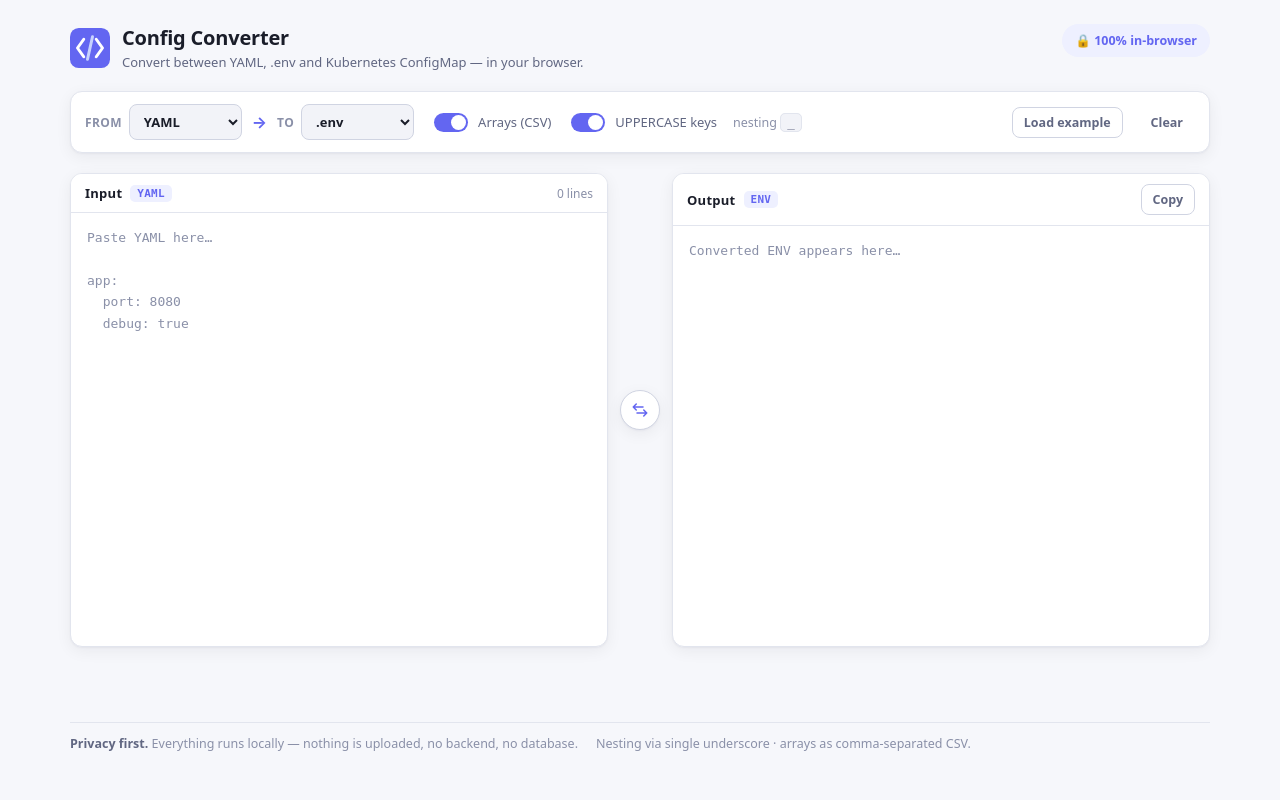
Test: App › parses a ConfigMap back into nested YAML
Select "ConfigMap" in the dropdown named "From format" at (185,122), box [129,104,242,140]
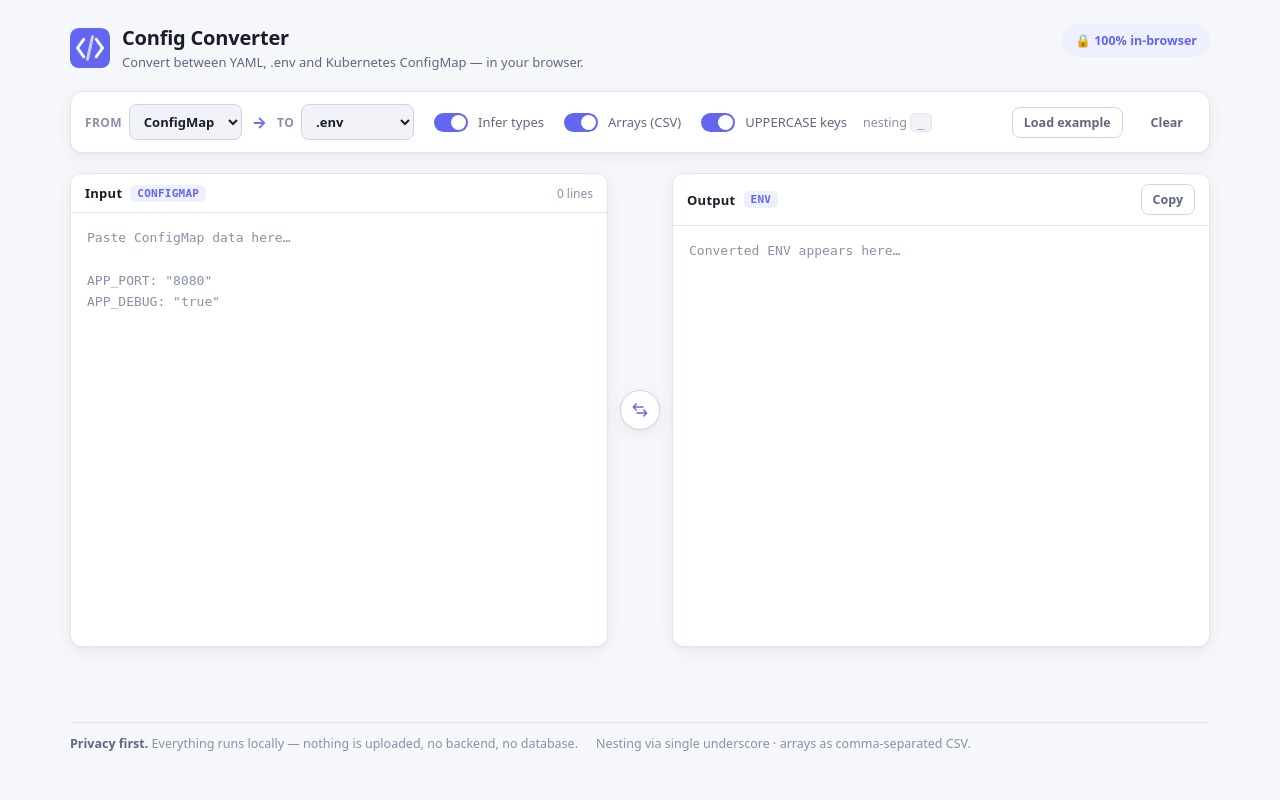
Select "YAML" in the dropdown named "To format" at (358,122), box [301,104,414,140]
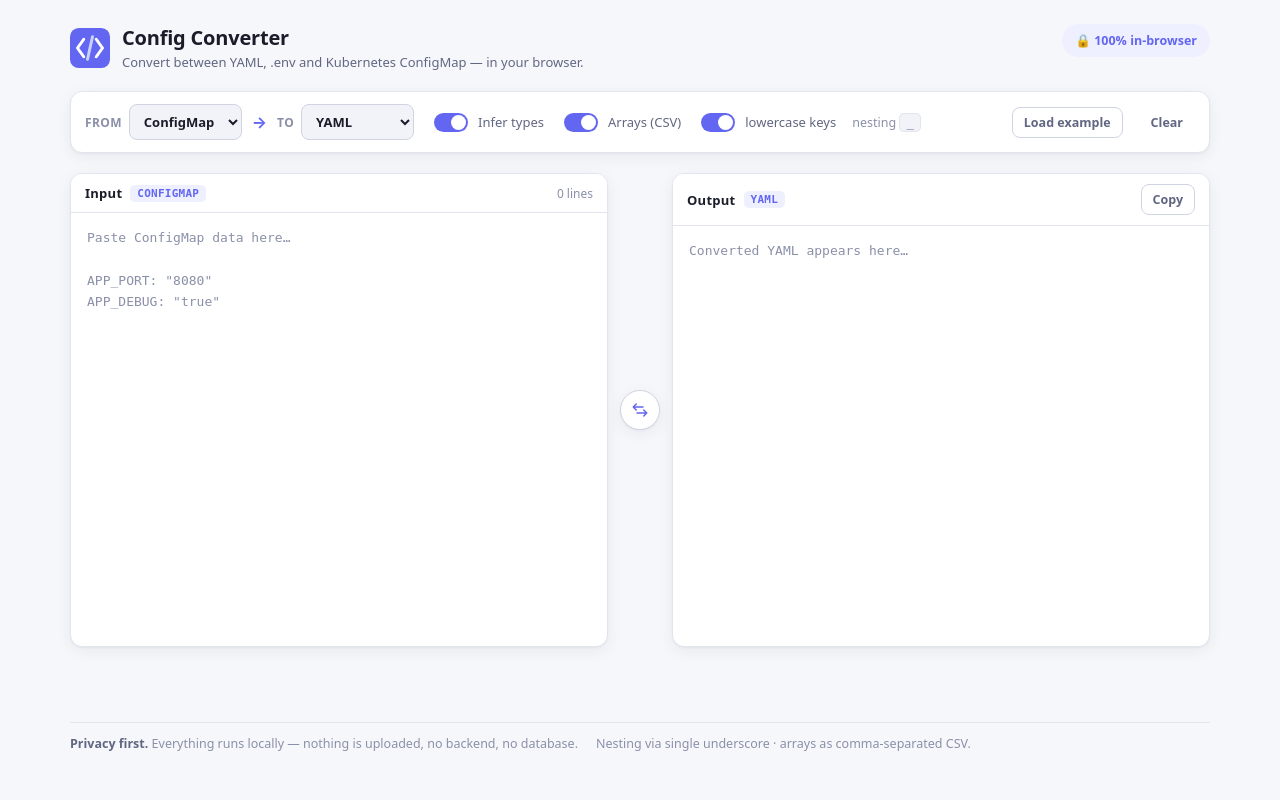
Replace the text in the text box named "Input" with "SERVER_HOST: \"0.0.0.0\" SERVER_PORT: \"3001\"" at (339,430), box [71,213,607,646]
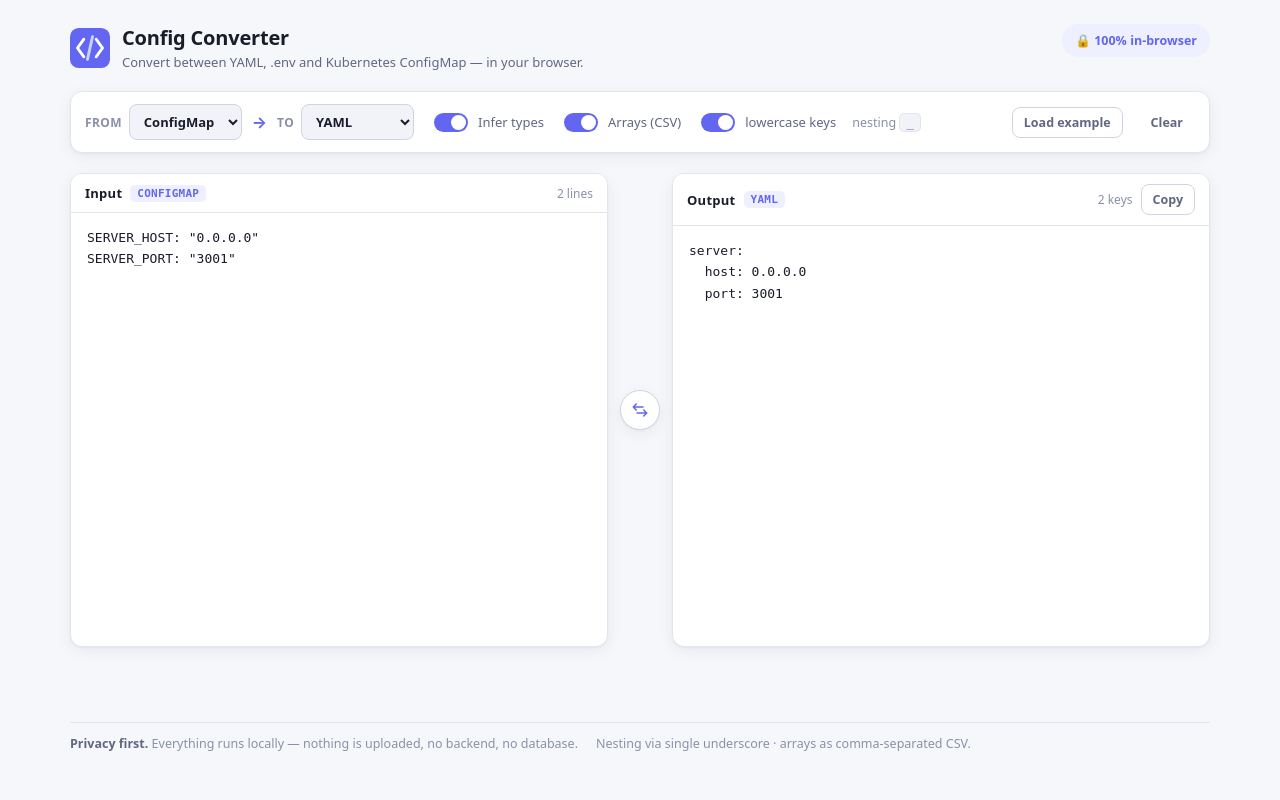
Now the text named "Output" shows "server:", box [689,243,806,301]
Now the text named "Output" shows "host: 0.0.0.0", box [689,243,806,301]
Now the text named "Output" shows "port: 3001", box [689,243,806,301]
